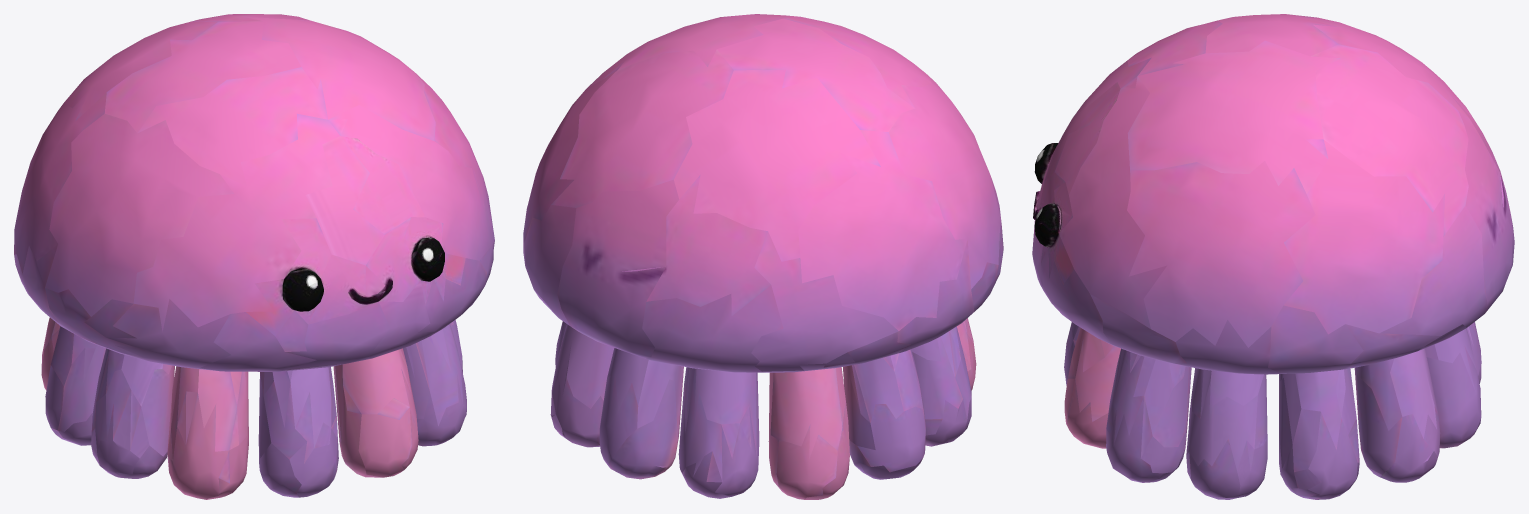
Rendered from hav-vandmand.glb.
3 renders of one model, left to right at view 1: azimuth 30°, elevation 25°; view 2: azimuth 150°, elevation 25°; view 3: azimuth 270°, elevation 25°, orthographic.
Bounding box in the file's own units: 1.9 × 1.67 × 1.9.
Materials: 1 (1 with a texture image).
